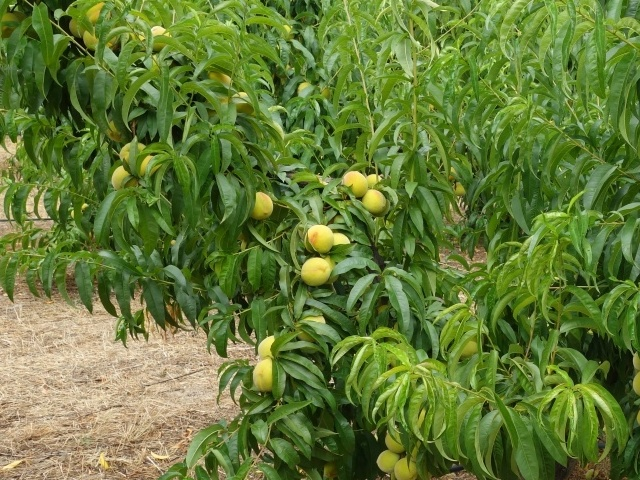peach: (250, 353, 284, 396), (298, 251, 335, 287), (250, 329, 288, 364), (100, 162, 139, 196), (302, 222, 337, 258), (243, 190, 275, 223), (80, 21, 110, 54), (371, 446, 402, 477), (116, 137, 150, 164), (360, 187, 389, 218), (382, 425, 410, 457), (342, 168, 370, 199), (388, 455, 421, 480), (324, 229, 352, 257), (360, 169, 388, 195)
